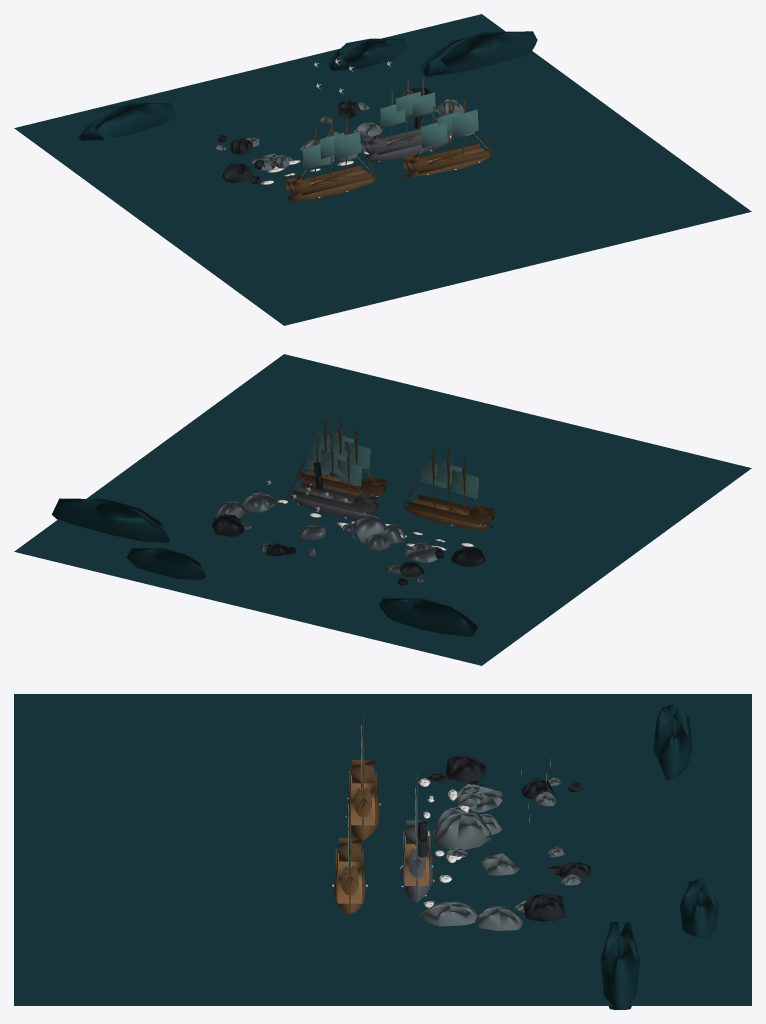
File: TASK007-HIGHPOLY-UNITY-SCENE_SHIPWRECK_BAY_DEC.fbx
The picture shows the model from 3 angles, top to bottom: view 1: azimuth 30°, elevation 25°; view 2: azimuth 150°, elevation 25°; view 3: azimuth 270°, elevation 25°; orthographic projection. The views are drawn at different scales.
Parts seen in each view (by area): view 1: A_bowsprit; view 2: A_bowsprit; view 3: A_bowsprit.
Boxes of the visible parts, box(x1,y1,x2,y2) form: A_bowsprit: box(14, 14, 751, 325); A_bowsprit: box(14, 354, 751, 665); A_bowsprit: box(14, 694, 751, 1009).
Bounding box in the file's own units: 5699 × 1069 × 5600.
